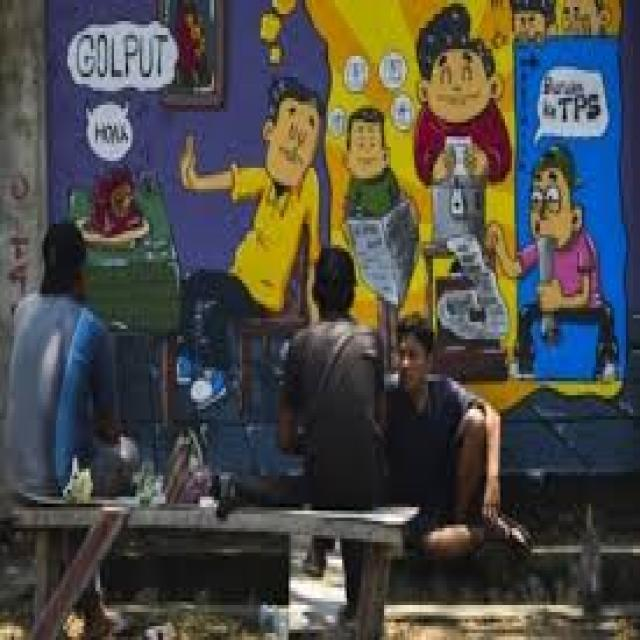-: (47, 0, 630, 414), (5, 174, 28, 296)
